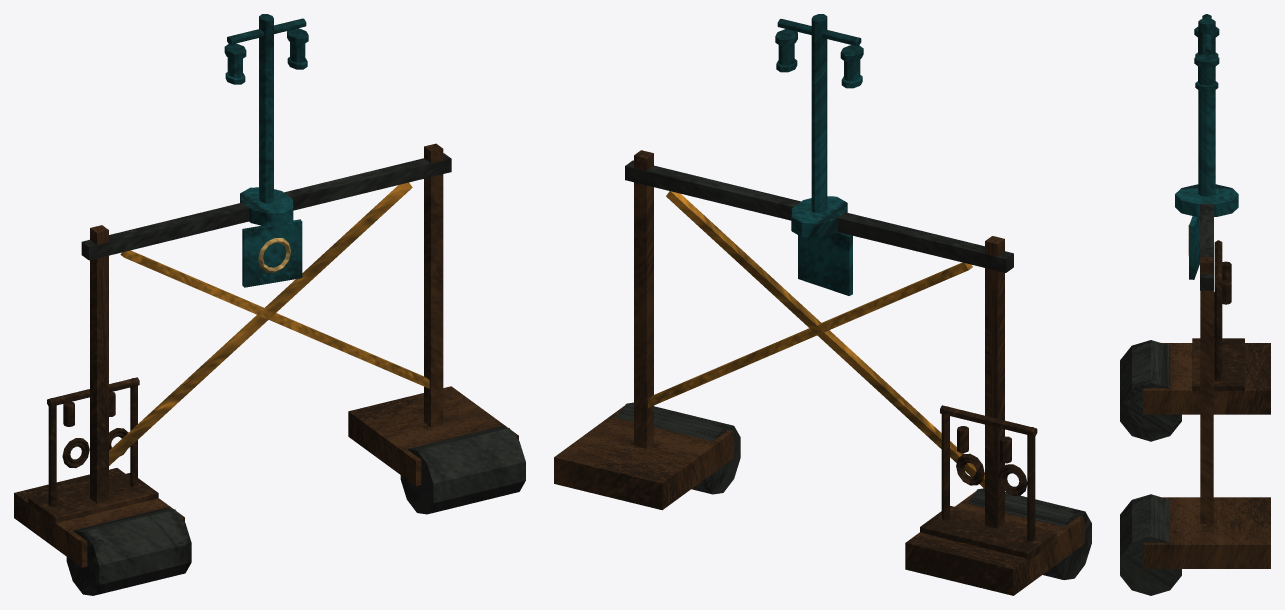
File: start-line-rig.glb
The picture shows the model from 3 angles, left to right: view 1: azimuth 30°, elevation 25°; view 2: azimuth 150°, elevation 25°; view 3: azimuth 270°, elevation 25°; orthographic projection. The views are drawn at different scales.
Visible parts, largest first — view 1: start-line-rig; view 2: start-line-rig; view 3: start-line-rig.
Part boxes in pixels (<box>): start-line-rig: <box>14,14,525,595</box>; start-line-rig: <box>554,14,1091,595</box>; start-line-rig: <box>1120,14,1270,595</box>.
Size of the model in its own units: 6.15 by 6.77 by 1.94.
Materials: 1 (1 with a texture image).
